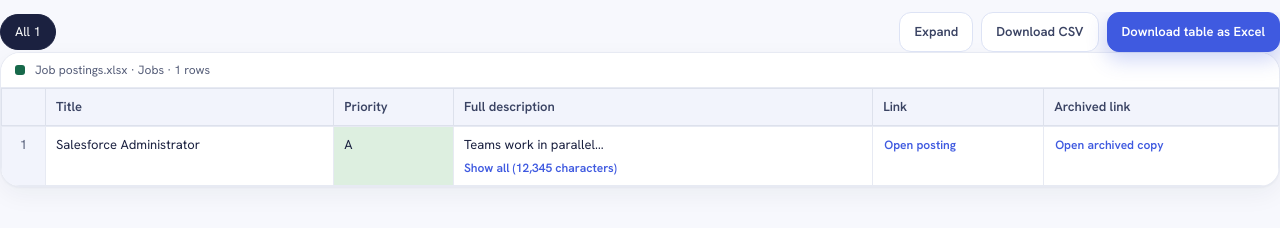
it: a cut cell whose whole text cannot be fetched says so and keeps the page
The image size is (1280, 228).
Step 1. Click the button with aria-label "Show the whole" → (540,168), box [464, 158, 617, 176]
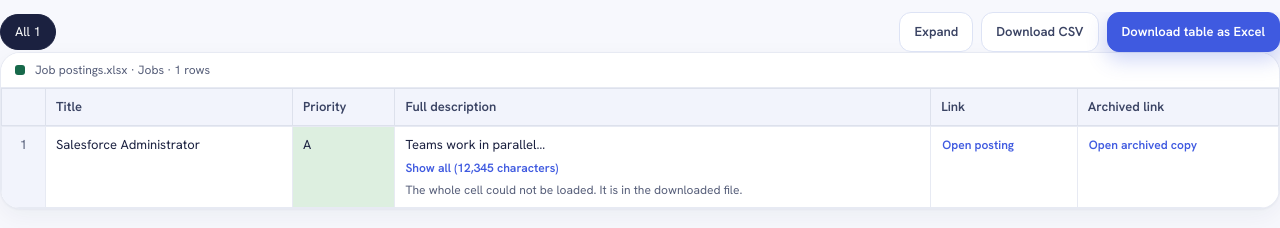
Check: the text "Teams work in parallel…" is shown, box [406, 136, 545, 153]
Check: the message shows "could not be loaded", box [406, 182, 742, 198]
